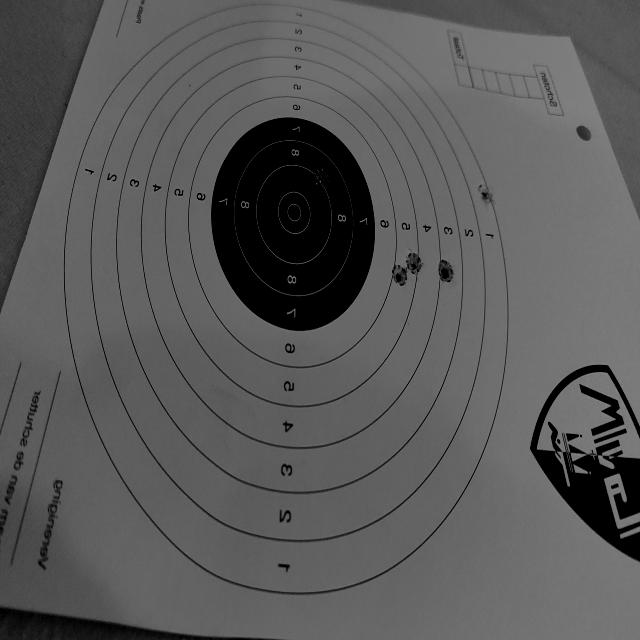1: (476, 182, 492, 206)
3: (436, 258, 455, 285)
5: (407, 248, 421, 277)
6: (391, 260, 407, 288)
9: (314, 166, 330, 192)
Target: (63, 0, 510, 597)
black_contour: (211, 115, 375, 331)
